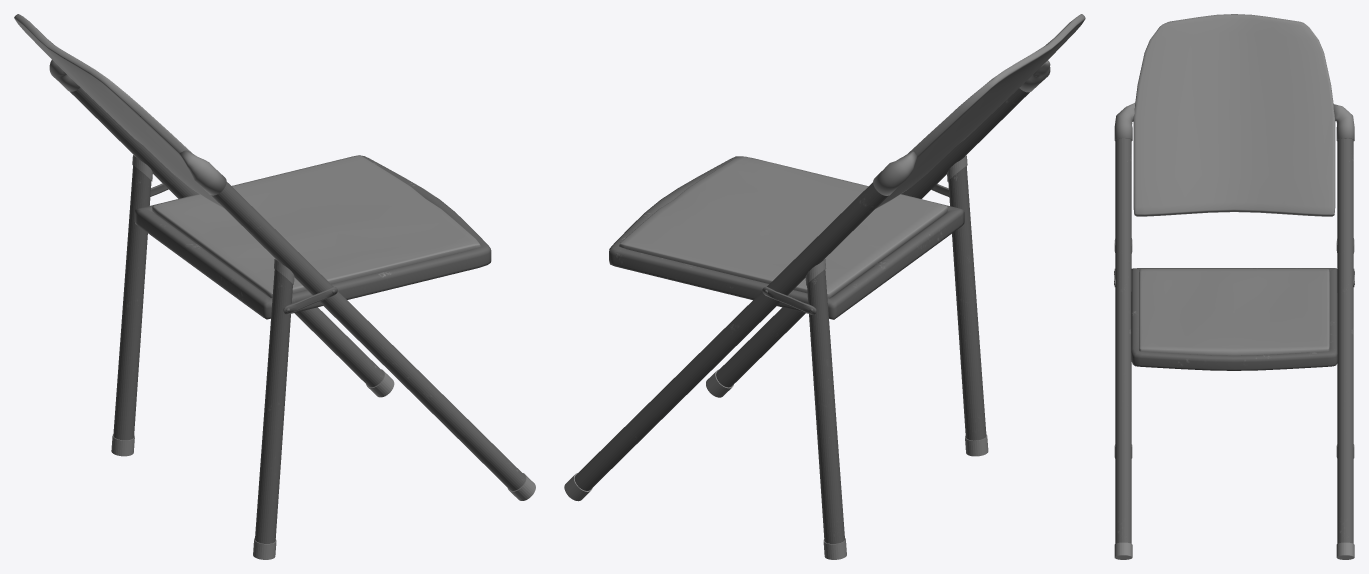
Rendered from Chair_V7.glb.
3 views of the same model, side by side, from view 1: azimuth 30°, elevation 25°; view 2: azimuth 150°, elevation 25°; view 3: azimuth 270°, elevation 25° (orthographic). The views are drawn at different scales.
Visible parts, largest first — view 1: Plane.027, Circle.010, Plane.026, Circle.009, Circle.012, Plane.029, Circle.013, Circle.011; view 2: Plane.027, Circle.013, Plane.026, Circle.012, Circle.009, Plane.029, Circle.010, Circle.014; view 3: Plane.029, Plane.027, Circle.010, Circle.013, Plane.026, Circle.014, Circle.011.
Part boxes in pixels (bbox=[...]): Plane.027: bbox=[152, 155, 480, 297]; Circle.010: bbox=[211, 182, 535, 500]; Plane.026: bbox=[134, 155, 491, 319]; Circle.009: bbox=[253, 258, 294, 559]; Circle.012: bbox=[111, 155, 152, 456]; Plane.029: bbox=[14, 14, 224, 208]; Circle.013: bbox=[70, 87, 394, 397]; Circle.011: bbox=[179, 150, 226, 195]; Plane.027: bbox=[619, 156, 947, 298]; Circle.013: bbox=[564, 182, 888, 501]; Plane.026: bbox=[609, 156, 964, 319]; Circle.012: bbox=[805, 259, 846, 559]; Circle.009: bbox=[947, 155, 988, 456]; Plane.029: bbox=[874, 14, 1085, 209]; Circle.010: bbox=[706, 88, 1029, 397]; Circle.014: bbox=[873, 151, 917, 195]; Plane.029: bbox=[1133, 14, 1335, 216]; Plane.027: bbox=[1139, 269, 1329, 355]; Circle.010: bbox=[1114, 138, 1132, 559]; Circle.013: bbox=[1336, 138, 1354, 559]; Plane.026: bbox=[1131, 268, 1337, 370]; Circle.014: bbox=[1333, 104, 1354, 140]; Circle.011: bbox=[1114, 103, 1135, 140].
Bounding box in the file's own units: 0.7314 × 0.8419 × 0.4668.
2 materials, 1 textured.
